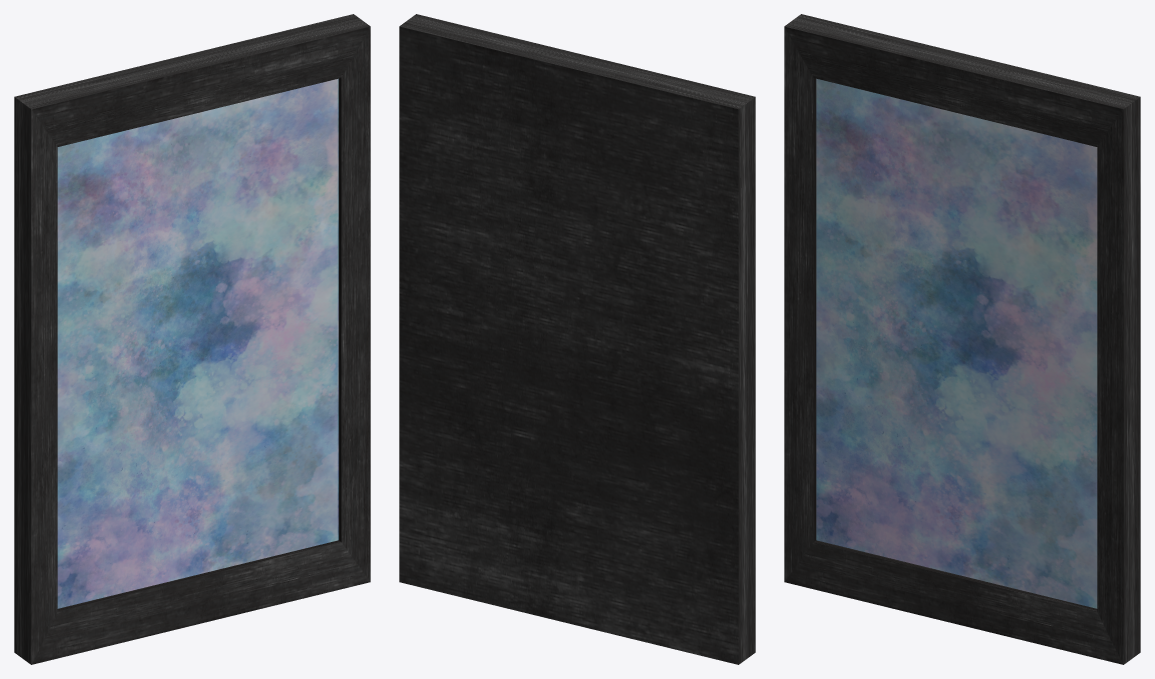
Rendered from painting_portrait_8.fbx.
3 views of the same model, side by side, from view 1: azimuth 30°, elevation 25°; view 2: azimuth 150°, elevation 25°; view 3: azimuth 330°, elevation 25° (orthographic).
Visible parts, largest first — view 1: painting_Var3.002; view 2: painting_Var3.002; view 3: painting_Var3.002.
Boxes of the visible parts, x1,y1,x2,y2 form: painting_Var3.002: (14,14,370,664); painting_Var3.002: (399,14,755,664); painting_Var3.002: (784,14,1140,664).
Size of the model in its own units: 59.07 by 92.39 by 5.15.
1 material, 1 textured.
